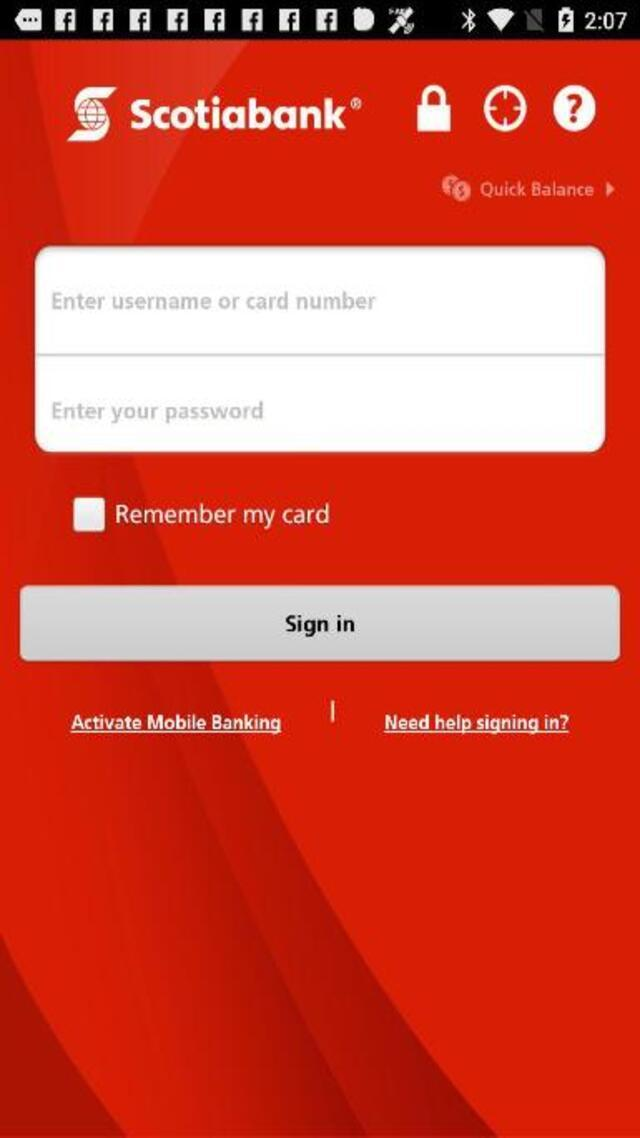CheckedTextView: (73, 496, 329, 532)
Icon: (554, 84, 596, 132), (416, 84, 452, 132), (606, 180, 614, 196)
Image: (66, 87, 362, 142), (484, 84, 527, 132), (442, 174, 472, 202)
Text: (52, 290, 376, 310), (116, 501, 330, 530), (52, 401, 264, 424), (70, 713, 282, 734), (384, 713, 570, 734), (278, 611, 365, 641), (481, 180, 594, 196)
TextButton: (21, 584, 621, 660)
